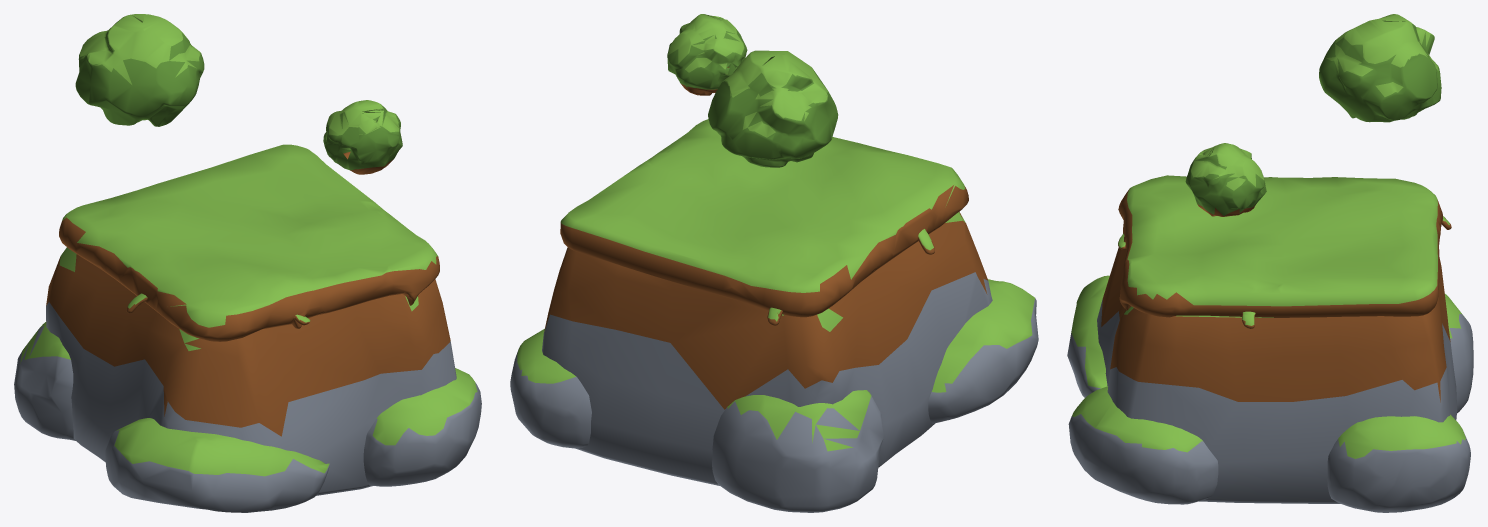
Rendered from SM_bob_map_island_land2.fbx.
The picture shows the model from 3 angles, left to right: view 1: azimuth 30°, elevation 25°; view 2: azimuth 150°, elevation 25°; view 3: azimuth 270°, elevation 25°; orthographic projection. The views are drawn at different scales.
Visible parts, largest first — view 1: SM_bob_map_island_land2; view 2: SM_bob_map_island_land2; view 3: SM_bob_map_island_land2.
Boxes of the visible parts, x1=… form: SM_bob_map_island_land2: x1=14, y1=14, x2=481, y2=512; SM_bob_map_island_land2: x1=510, y1=14, x2=1038, y2=512; SM_bob_map_island_land2: x1=1067, y1=14, x2=1473, y2=512.
Size of the model in its own units: 573 by 600 by 557.
Materials: 1 (1 with a texture image).
